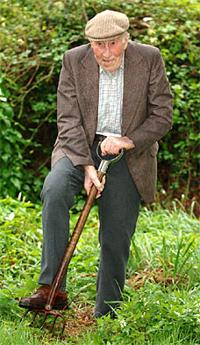person: (18, 8, 174, 320)
